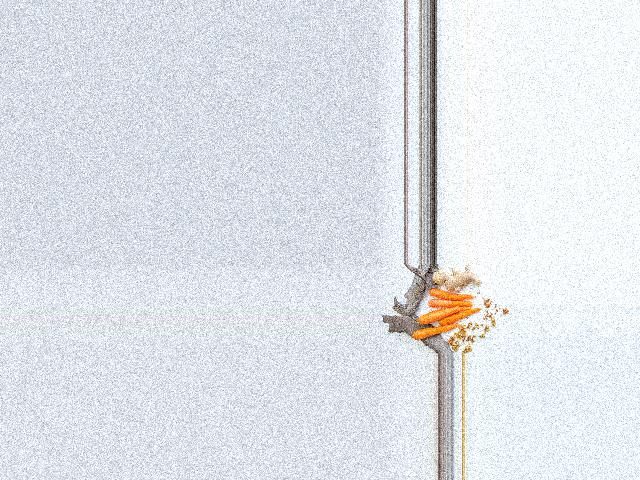carrot: (426, 282, 473, 302)
